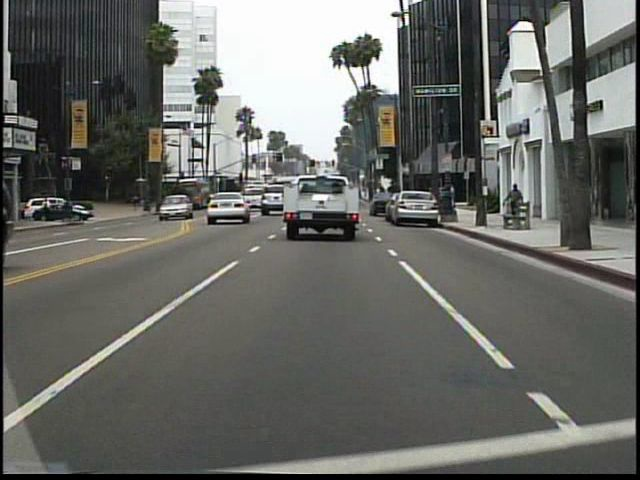person: (502, 181, 525, 225), (132, 189, 142, 215)
